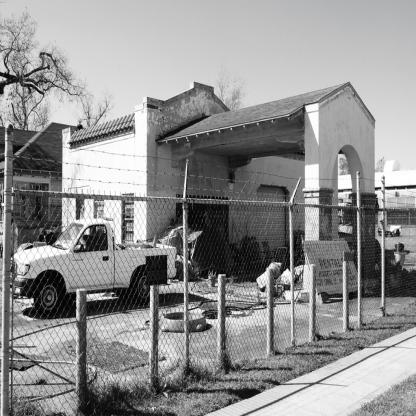Truck: (3, 219, 186, 318), (372, 218, 414, 270)
